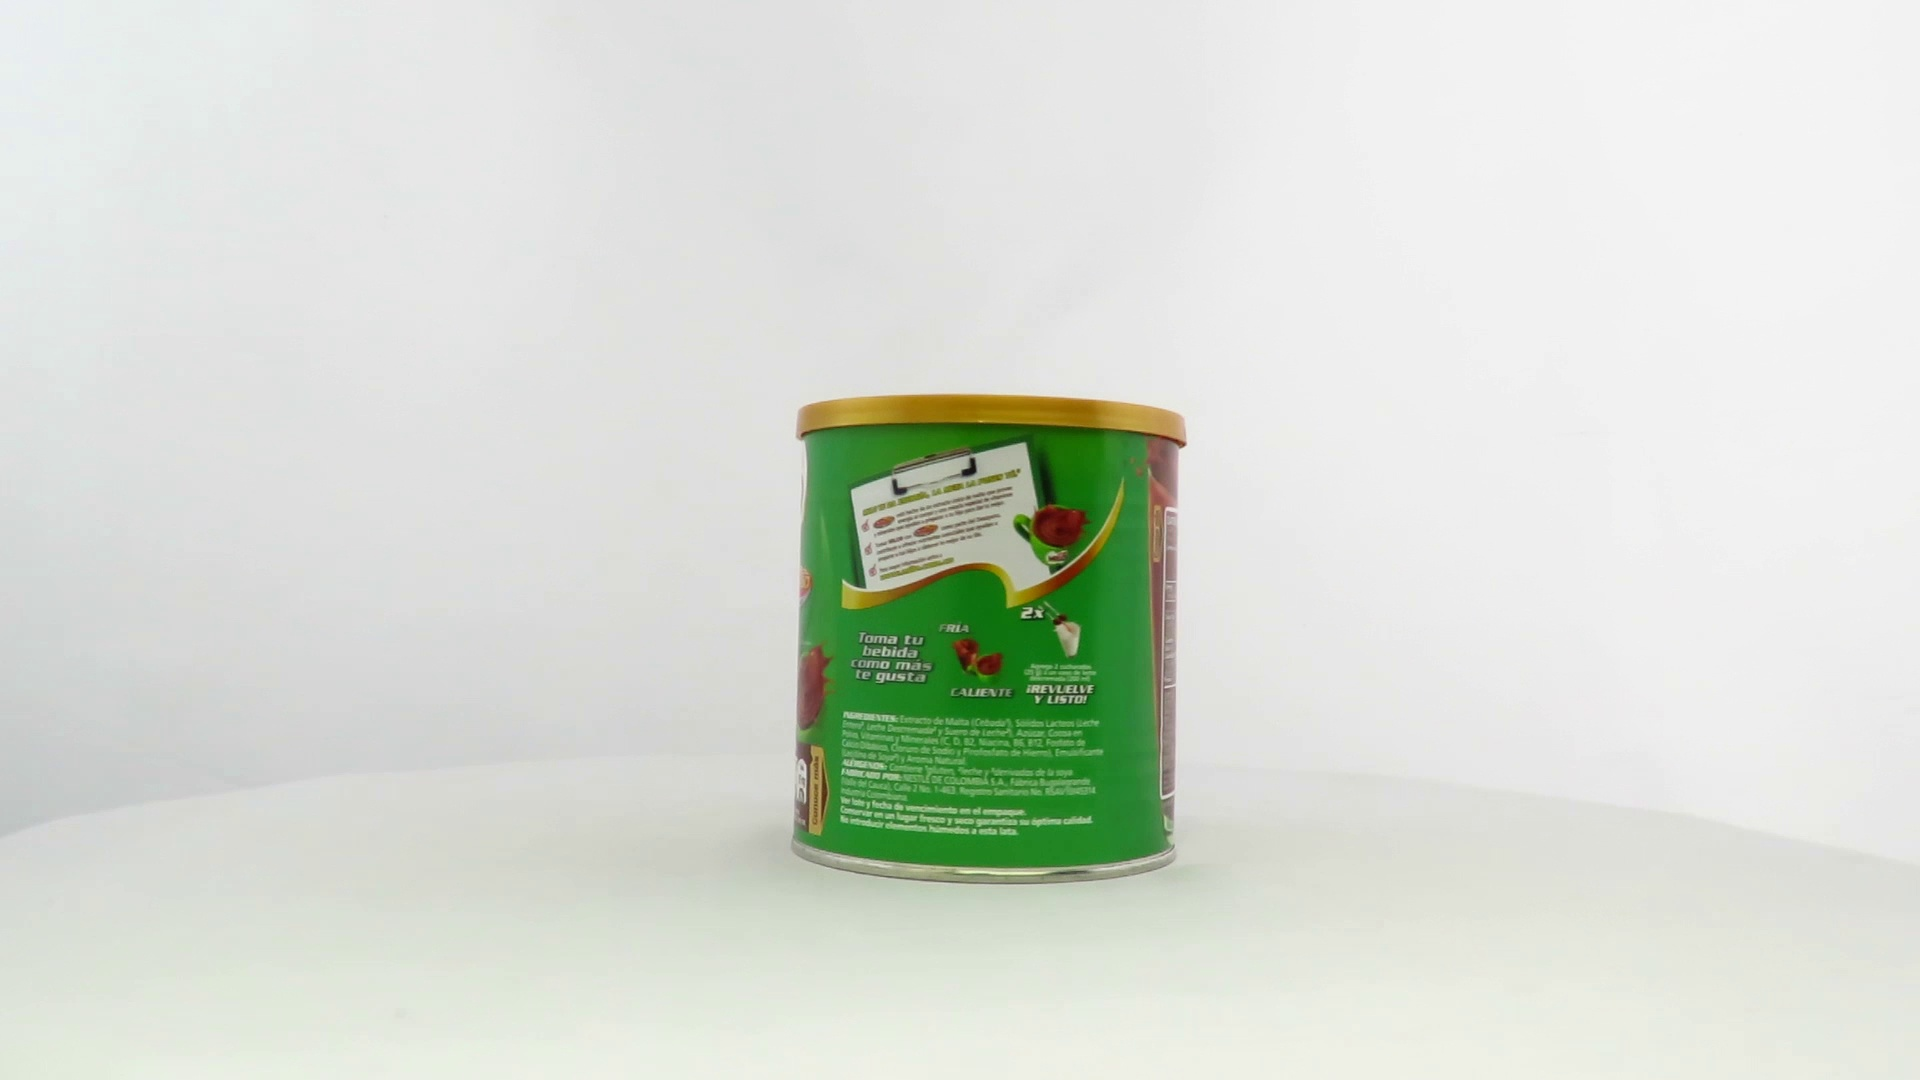COL0170203LAT40000: (785, 389, 1193, 891)
